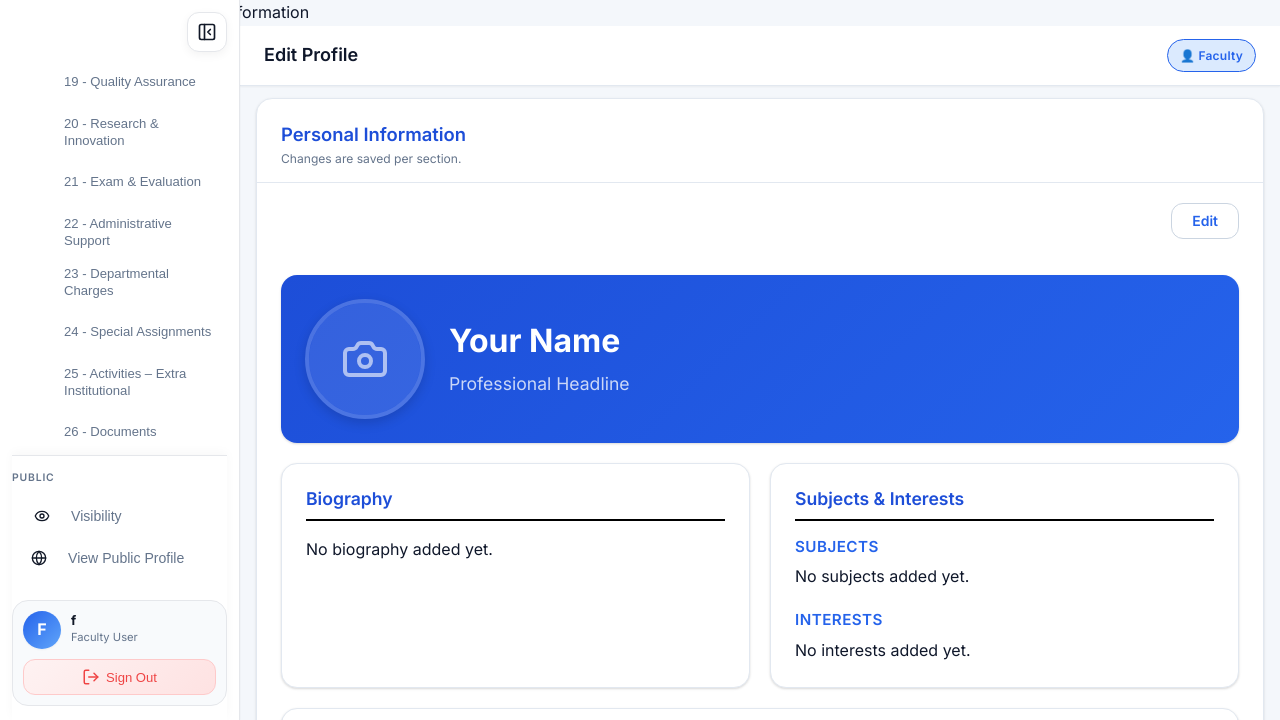
Test: Faculty Profile Edit sidebar numbering › clicking "26 - Documents" navigates to /faculty/profile/edit/documents and opens that section
(page scrolled)
Click the button "26 - Documents": (118, 433) [12,411,225,455]
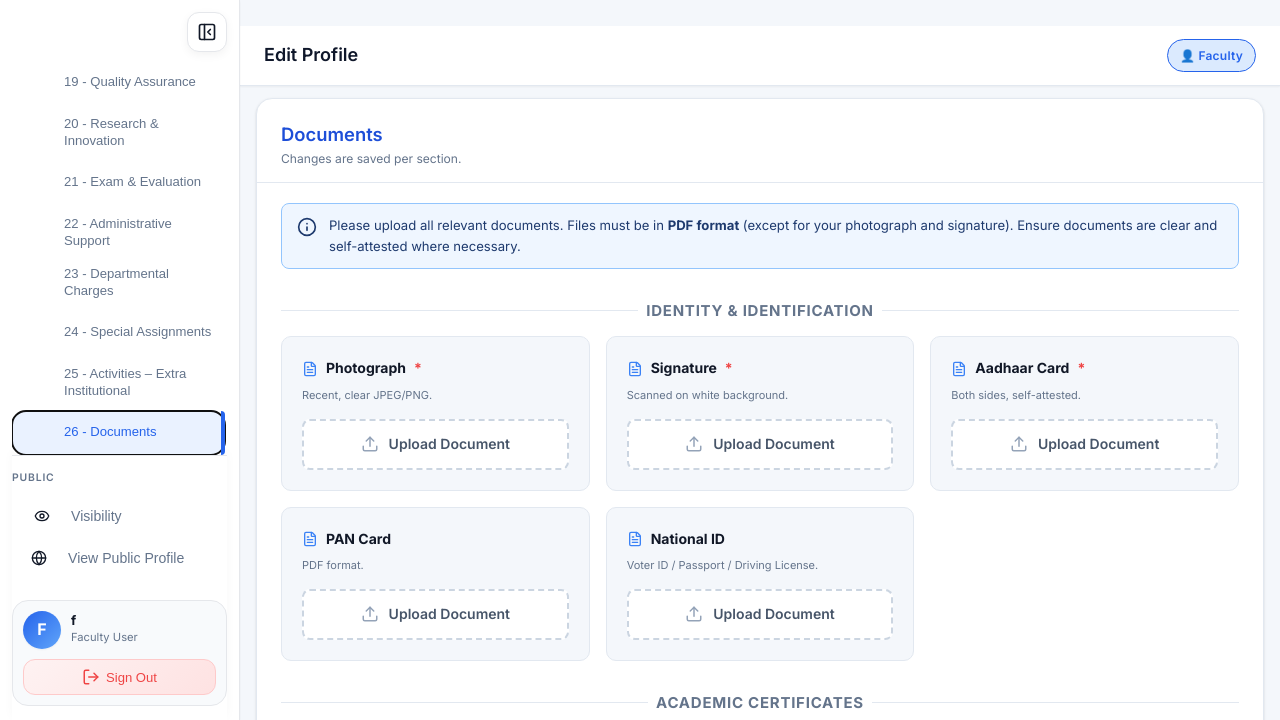
Expected: the text with test id "path" reads "/faculty/profile/edit/documents", [0,2,235,22]
Expected: the heading "Documents" is shown, [281,123,383,145]
